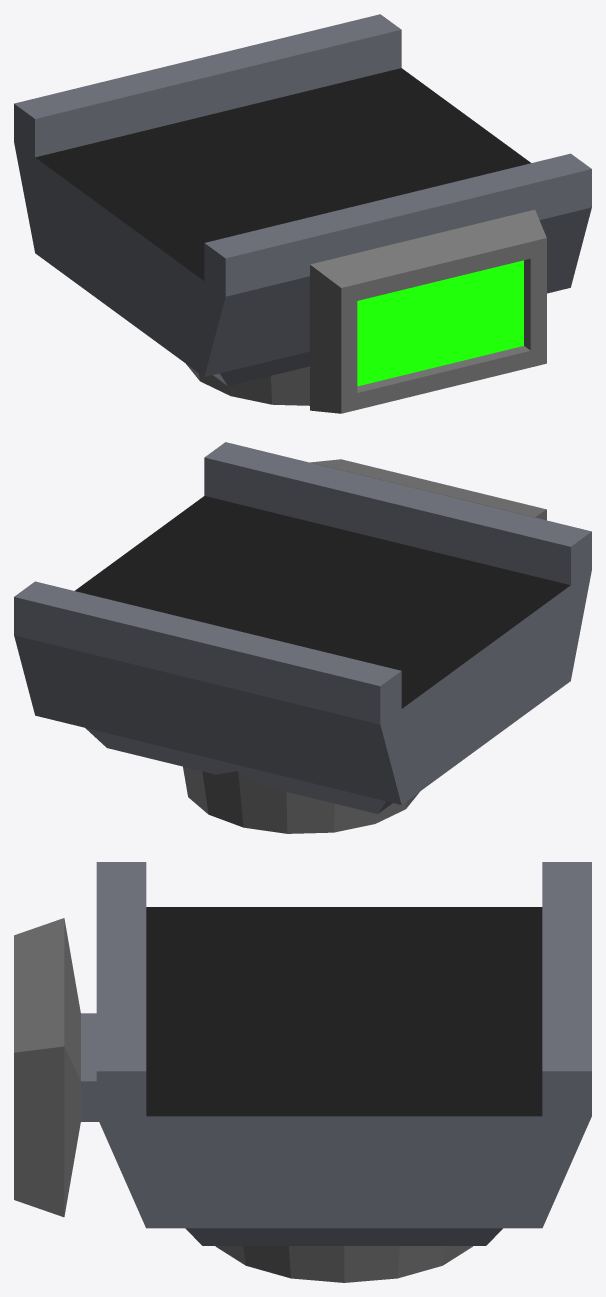
The model's file is moving_platform.glb.
3 renders of one model, top to bottom at view 1: azimuth 30°, elevation 25°; view 2: azimuth 150°, elevation 25°; view 3: azimuth 270°, elevation 25°, orthographic. The views are drawn at different scales.
Visible parts, largest first — view 1: MovingPlatform1; view 2: MovingPlatform1; view 3: MovingPlatform1.
Part boxes in pixels (x1=…): MovingPlatform1: x1=14, y1=14, x2=591, y2=413; MovingPlatform1: x1=14, y1=442, x2=591, y2=833; MovingPlatform1: x1=14, y1=862, x2=591, y2=1282.
Bounding box in the file's own units: 2 × 1.15 × 2.33.
